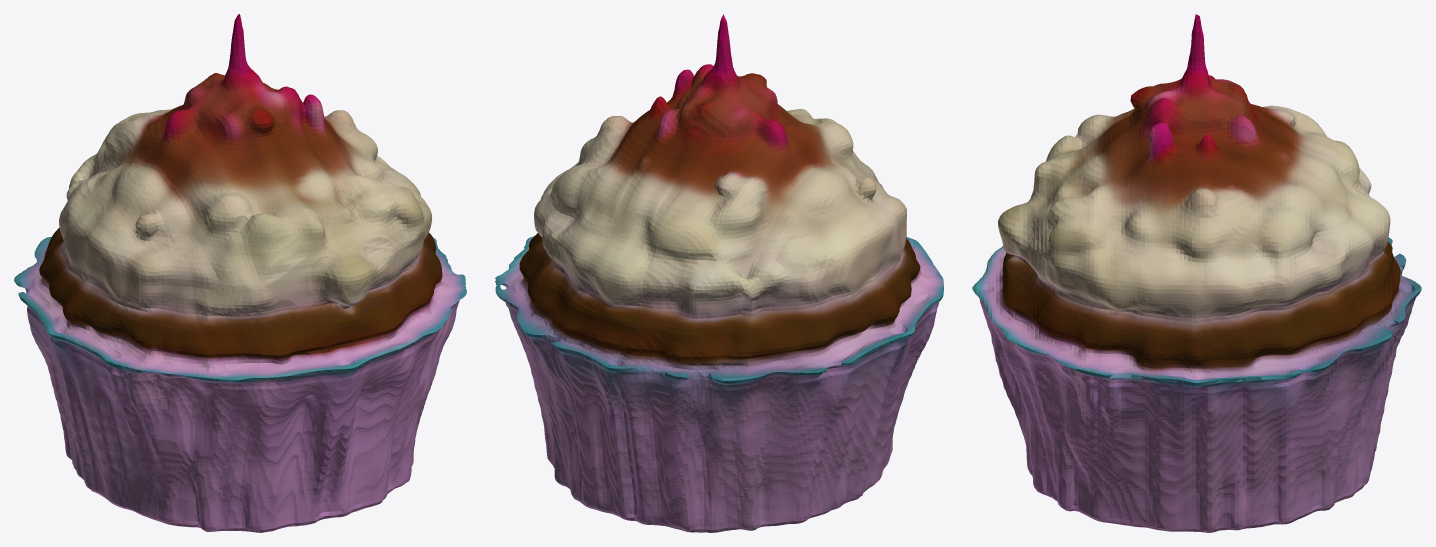
Rendered from 3d_cake.glb.
3 renders of one model, left to right at view 1: azimuth 30°, elevation 25°; view 2: azimuth 150°, elevation 25°; view 3: azimuth 270°, elevation 25°, orthographic.
Parts seen in each view (by area): view 1: 3d_cake.ply; view 2: 3d_cake.ply; view 3: 3d_cake.ply.
Boxes of the visible parts, left/top/right/bottom form: 3d_cake.ply: left=14, top=14, right=466, bottom=532; 3d_cake.ply: left=495, top=14, right=943, bottom=532; 3d_cake.ply: left=972, top=14, right=1421, bottom=532.
Size of the model in its own units: 1.77 by 1.96 by 1.78.
